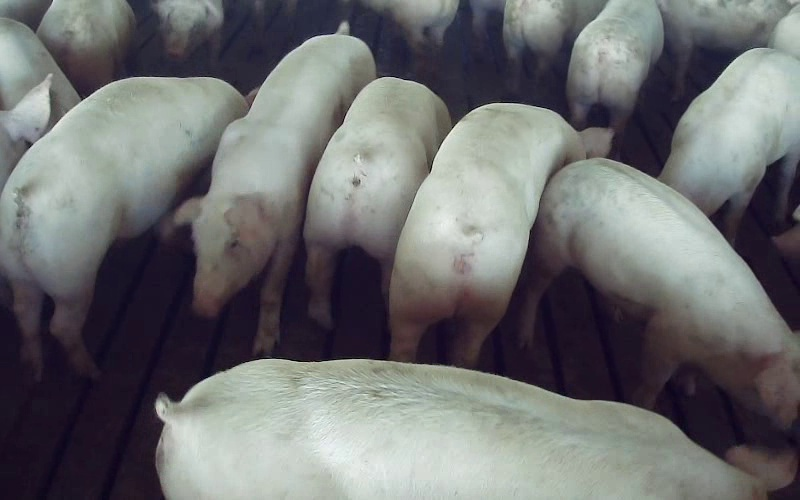pig: (156, 360, 764, 499), (519, 159, 799, 426), (0, 77, 245, 378), (173, 22, 375, 355), (389, 103, 610, 367), (304, 77, 450, 327), (659, 48, 799, 242), (659, 0, 790, 99), (503, 0, 605, 87)
